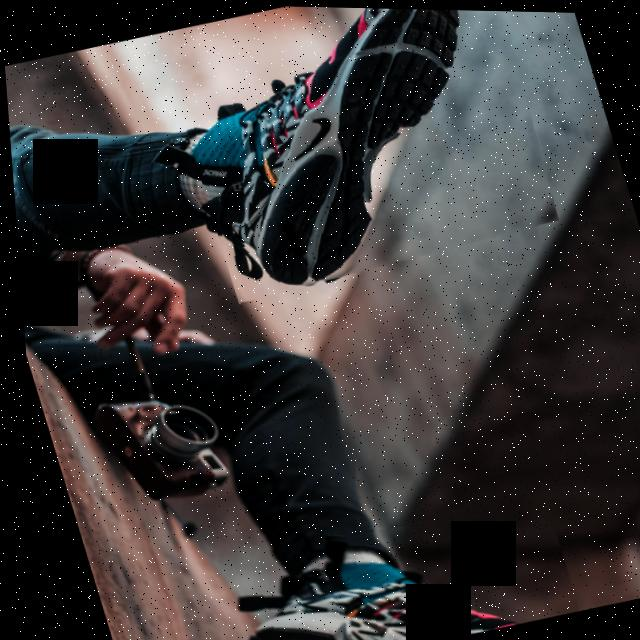shoe: (154, 3, 573, 308), (187, 481, 573, 640)
